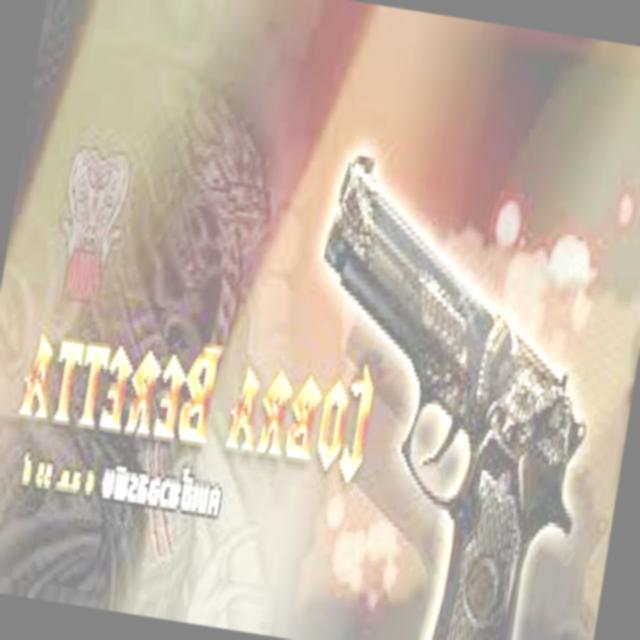semi automatic: (256, 127, 637, 640)
